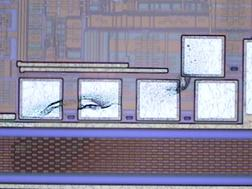PO CONTAMINATION: (8, 54, 251, 140)
